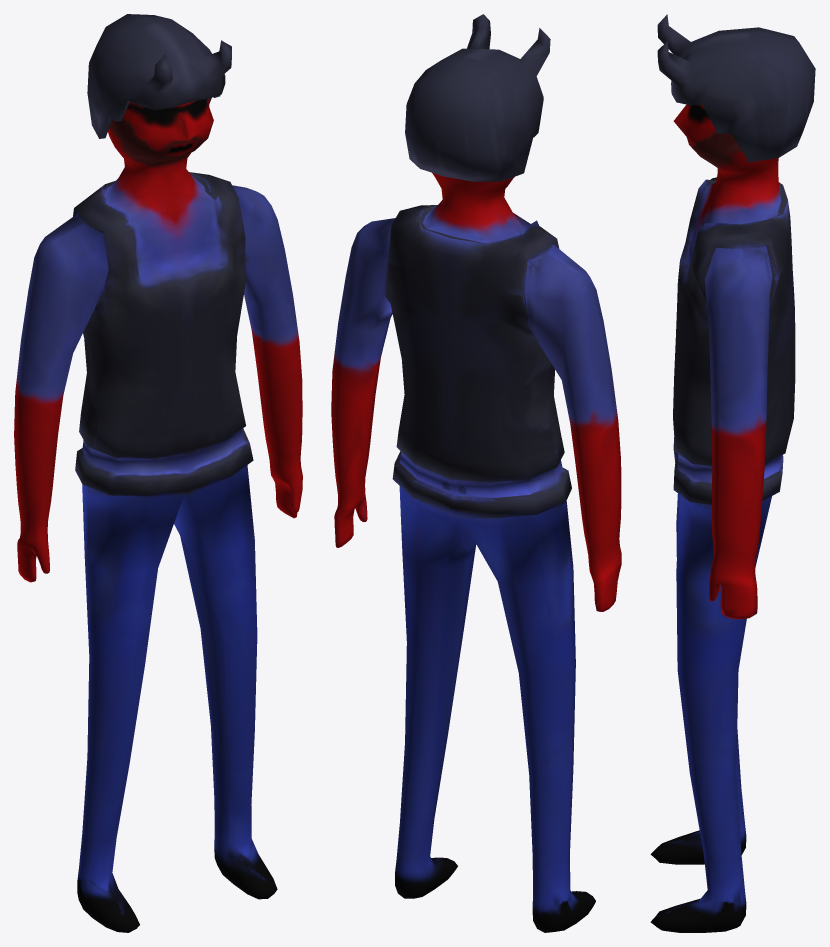
File: Demon_Swat.fbx
3 views of the same model, side by side, from view 1: azimuth 30°, elevation 25°; view 2: azimuth 150°, elevation 25°; view 3: azimuth 270°, elevation 25° (orthographic).
Visible parts, largest first — view 1: Swat; view 2: Swat; view 3: Swat.
Boxes of the visible parts, box(x1,y1,x2,y2) form: Swat: box(14, 14, 302, 932); Swat: box(331, 14, 621, 932); Swat: box(650, 14, 815, 932).
Bounding box in the file's own units: 136 × 403 × 69.43.
2 materials, 2 textured.
